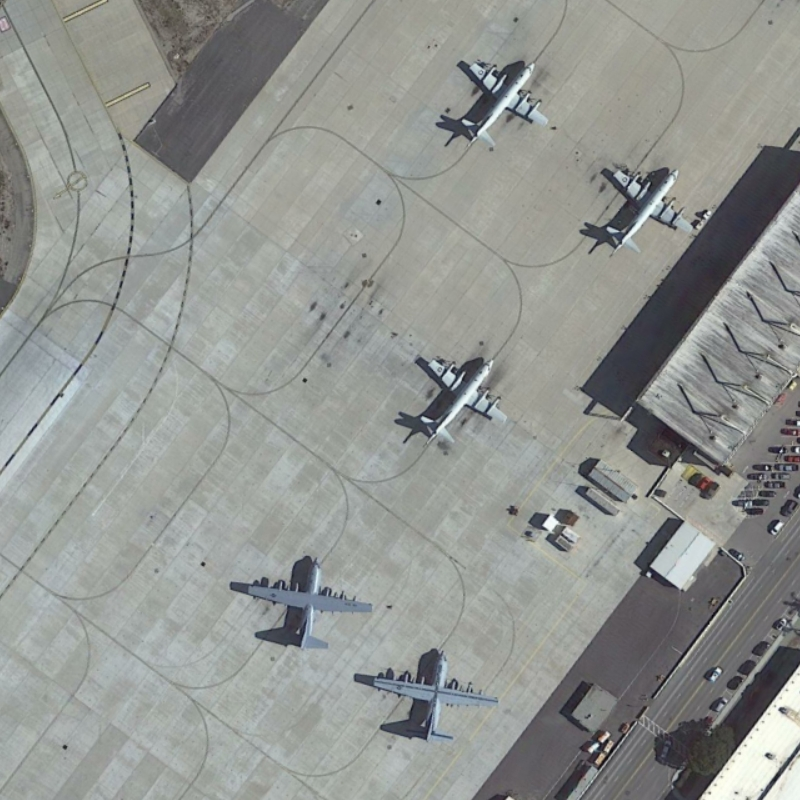A2: (363, 644, 504, 749), (243, 552, 379, 657)
A9: (409, 344, 516, 451), (448, 50, 557, 154), (599, 156, 700, 258)
